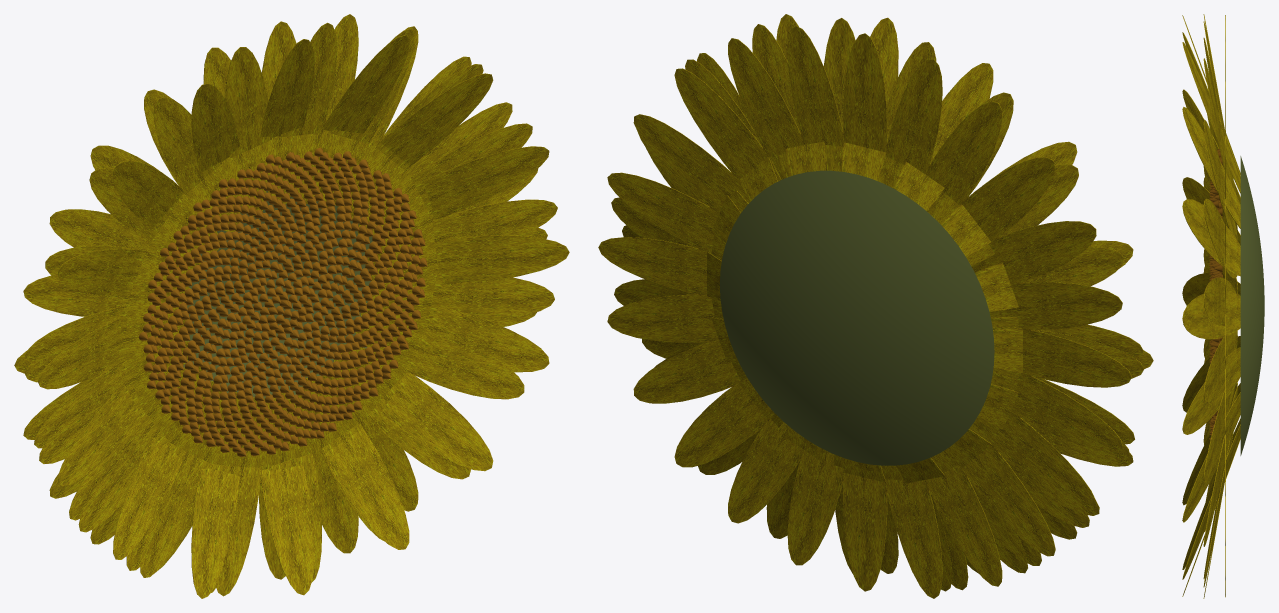
Rendered from Sunflower.glb.
The picture shows the model from 3 angles, left to right: view 1: azimuth 30°, elevation 25°; view 2: azimuth 150°, elevation 25°; view 3: azimuth 270°, elevation 25°; orthographic projection. The views are drawn at different scales.
Visible parts, largest first — view 1: tongue (×61), sphere; view 2: tongue (×59), sphere; view 3: tongue (×29), sphere.
Part boxes in pixels (left/top/right/bottom): tongue (×61): left=14, top=14, right=569, bottom=598; sphere: left=183, top=191, right=372, bottom=398; tongue (×59): left=598, top=14, right=1153, bottom=598; sphere: left=719, top=170, right=994, bottom=465; tongue (×29): left=1182, top=15, right=1240, bottom=598; sphere: left=1240, top=156, right=1264, bottom=455.
Size of the model in its own units: 60.1 by 60.04 by 8.44.
Materials: 3 (1 with a texture image).
